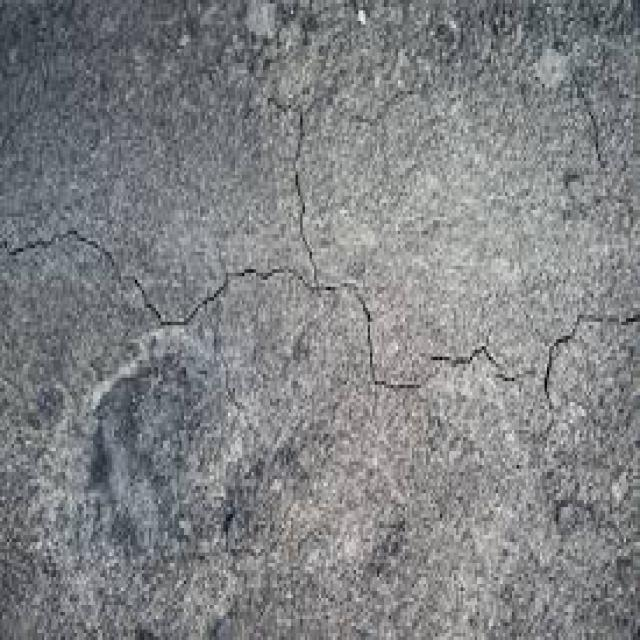corrosion: (478, 633, 497, 639)
crack: (0, 113, 422, 389)
